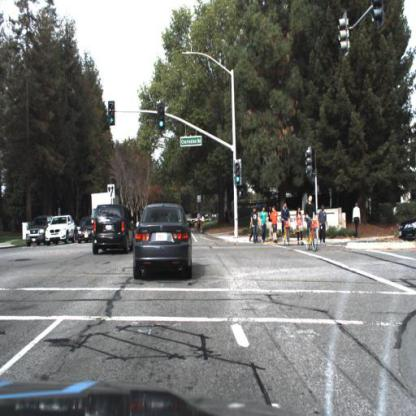biker: (304, 192, 321, 253), (280, 201, 294, 249)
car: (132, 203, 196, 280), (90, 202, 132, 256), (44, 210, 78, 245), (26, 215, 49, 249), (397, 212, 416, 247), (77, 216, 95, 244)
pedestrian: (269, 203, 282, 248), (295, 203, 307, 247), (352, 199, 364, 239), (260, 205, 268, 246), (251, 208, 260, 244), (266, 203, 274, 243), (197, 208, 207, 236)
trafficLight: (233, 157, 244, 190), (157, 103, 167, 134), (106, 100, 117, 128)
